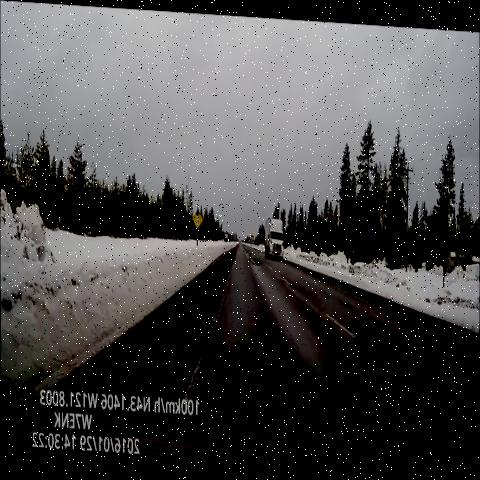pothole: (236, 236, 266, 276)
